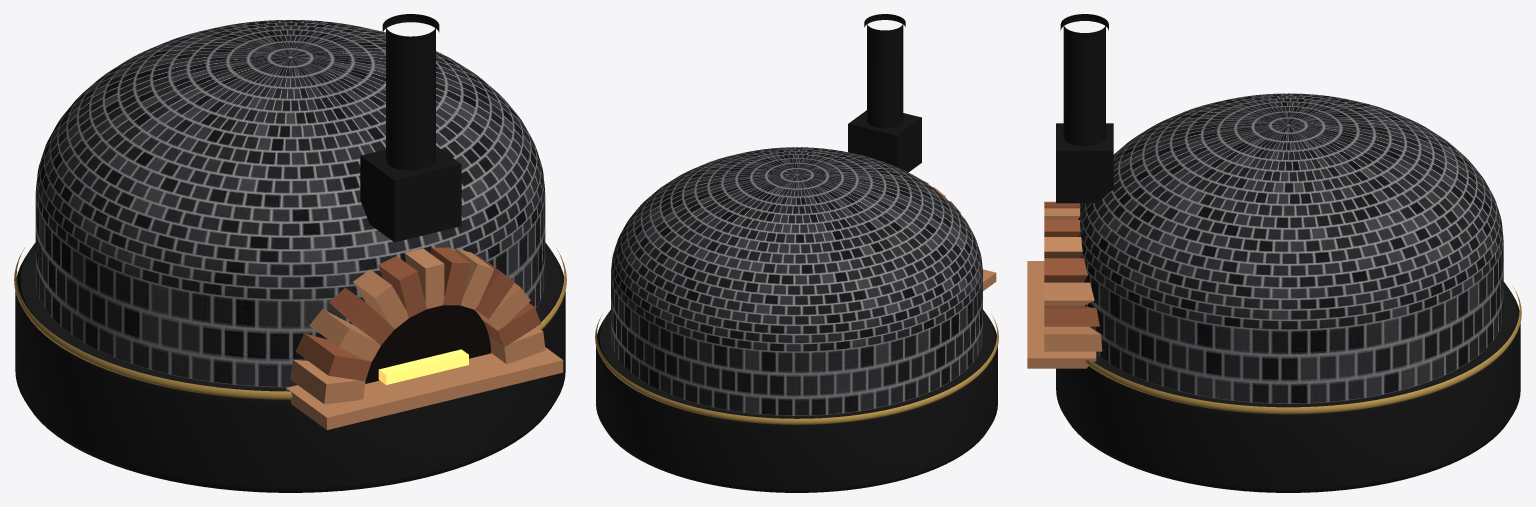
File: horno-negro.glb
3 renders of one model, left to right at view 1: azimuth 30°, elevation 25°; view 2: azimuth 150°, elevation 25°; view 3: azimuth 270°, elevation 25°, orthographic. The views are drawn at different scales.
Parts seen in each view (by area): view 1: cupula, base, arco, chimenea, arco-oscuro, boca, filete, fuego; view 2: cupula, base, chimenea, filete; view 3: cupula, base, chimenea, arco, filete, arco-oscuro.
Boxes of the visible parts, left/top/right/bottom form: cupula: left=35, top=20, right=545, bottom=387; base: left=15, top=242, right=565, bottom=492; arco: left=286, top=248, right=563, bottom=429; chimenea: left=360, top=14, right=461, bottom=242; arco-oscuro: left=295, top=247, right=541, bottom=381; boca: left=365, top=305, right=490, bottom=383; filete: left=14, top=248, right=566, bottom=399; fuego: left=378, top=349, right=468, bottom=384; cupula: left=611, top=147, right=982, bottom=415; base: left=596, top=310, right=997, bottom=492; chimenea: left=848, top=14, right=921, bottom=172; filete: left=595, top=314, right=998, bottom=424; cupula: left=1078, top=93, right=1503, bottom=403; base: left=1056, top=282, right=1520, bottom=492; chimenea: left=1056, top=14, right=1113, bottom=203; arco: left=1027, top=201, right=1102, bottom=368; filete: left=1085, top=287, right=1521, bottom=414; arco-oscuro: left=1044, top=202, right=1099, bottom=326.
Bounding box in the file's own units: 2.43 × 2.14 × 2.58.
Materials: 8 (1 with a texture image).
